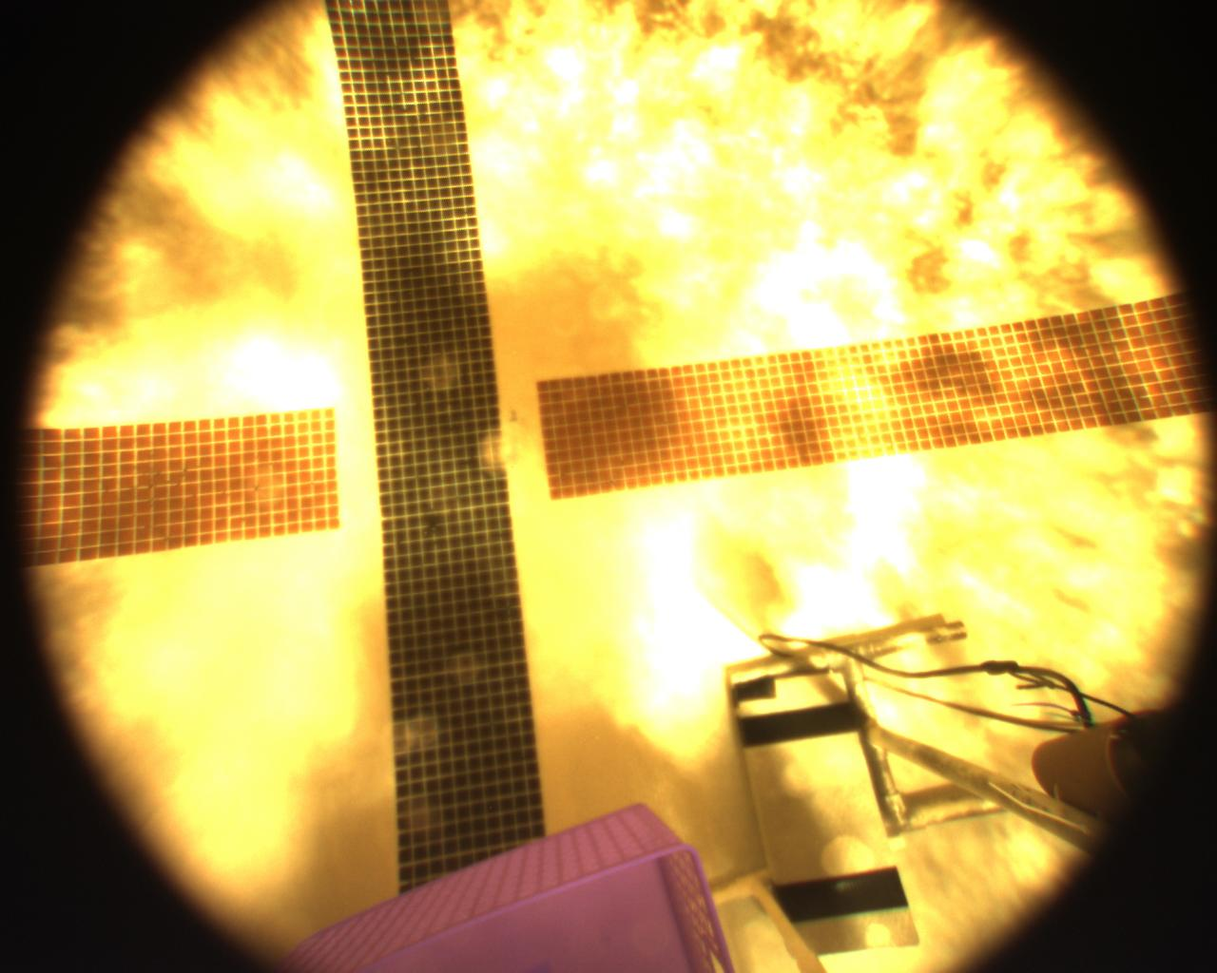dropper-box-top: (277, 797, 738, 971)
